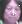without_mask: (1, 2, 22, 24)
